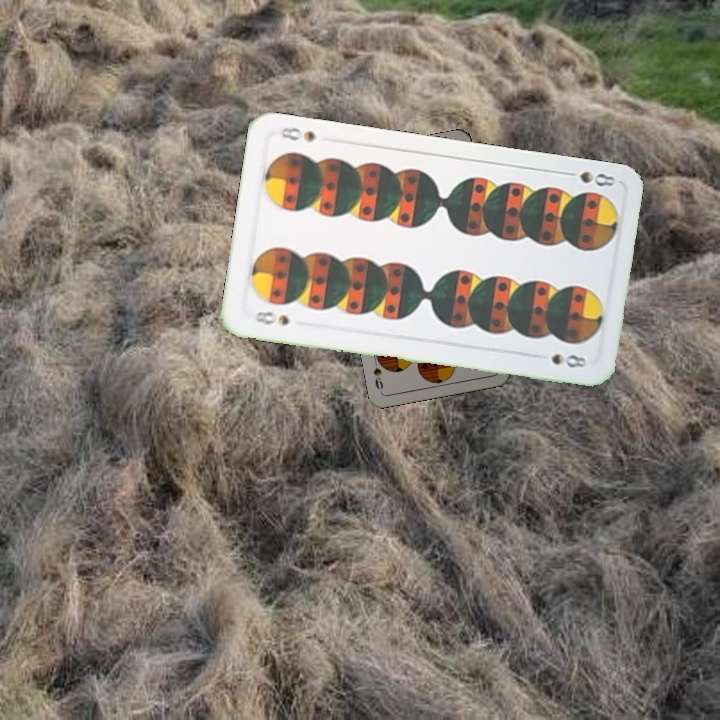S8: (559, 167, 618, 189), (250, 307, 292, 329)
